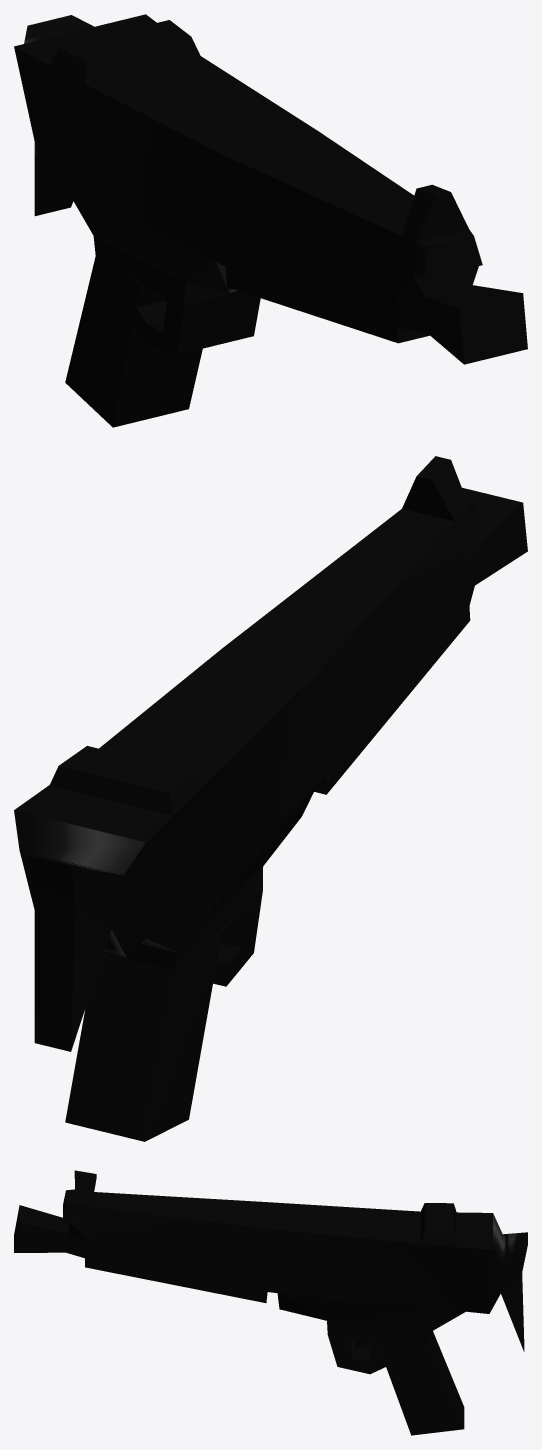
Rendered from mp5withoutclip.fbx.
The picture shows the model from 3 angles, top to bottom: view 1: azimuth 30°, elevation 25°; view 2: azimuth 150°, elevation 25°; view 3: azimuth 270°, elevation 25°; orthographic projection. The views are drawn at different scales.
Parts seen in each view (by area): view 1: MP5; view 2: MP5; view 3: MP5.
Boxes of the visible parts, x1,y1,x2,y2 form: MP5: (14,14,527,427); MP5: (14,456,527,1141); MP5: (14,1170,527,1435).
Size of the model in its own units: 14.48 by 46 by 84.92.
